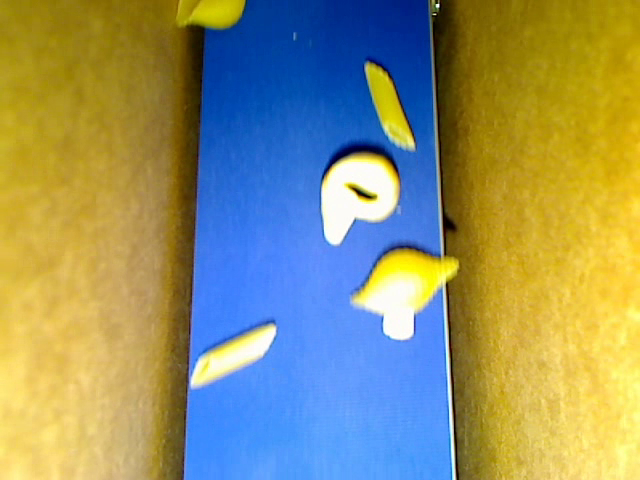penne: (190, 323, 276, 388), (365, 61, 414, 149)
shell: (351, 247, 458, 315), (176, 1, 246, 29)
tortellini: (319, 152, 399, 246)
